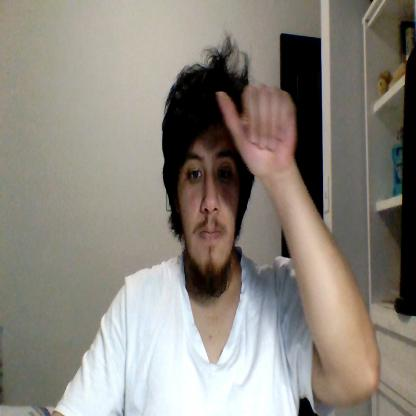A: (217, 83, 295, 175)
